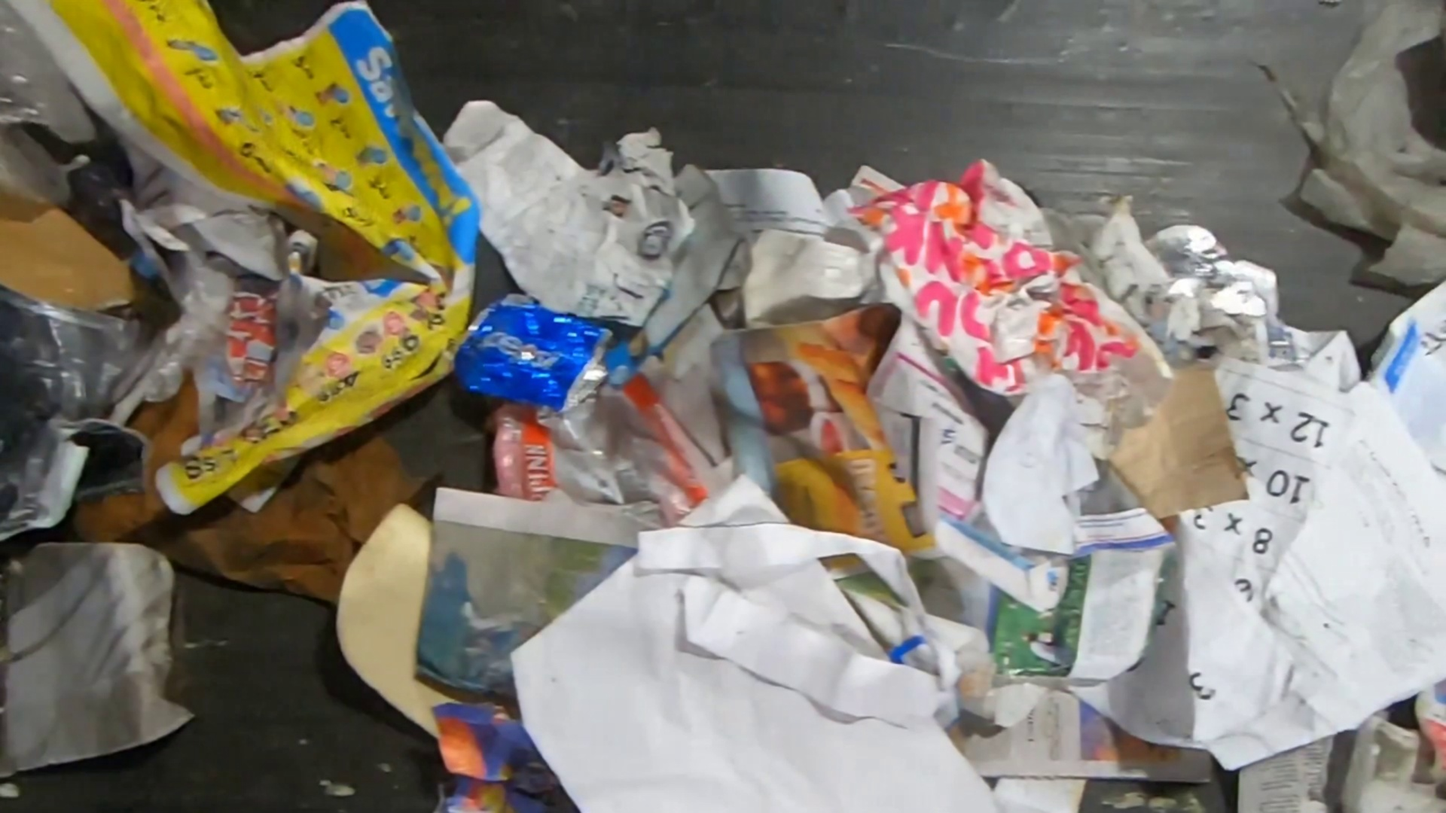cardboard: (73, 362, 436, 609), (0, 181, 134, 318)
metal: (455, 293, 616, 416)
plastic: (1250, 0, 1446, 288), (492, 376, 714, 519), (0, 0, 100, 209)
